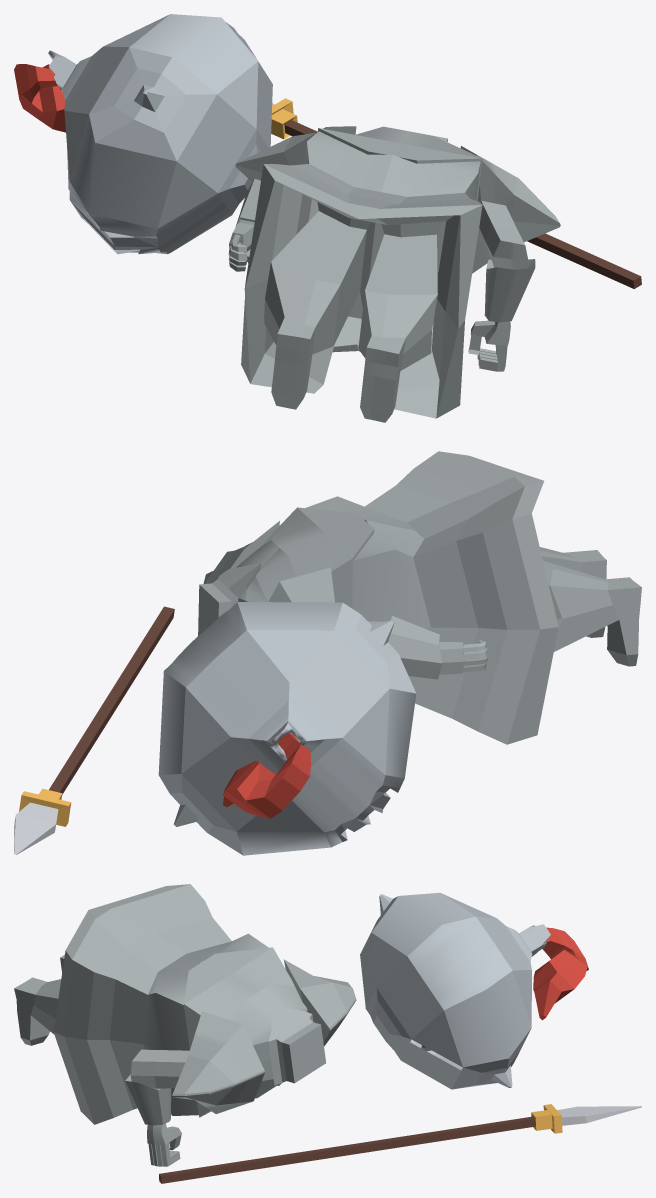
The model's file is enemyKnightDead.fbx.
3 renders of one model, top to bottom at view 1: azimuth 30°, elevation 25°; view 2: azimuth 150°, elevation 25°; view 3: azimuth 270°, elevation 25°, orthographic. The views are drawn at different scales.
Parts seen in each view (by area): view 1: pCube2, pCube1, pCube3, pasted__pCube3, pCube4, pCube5; view 2: pCube2, pCube1, pCube4, pasted__pCube3, pCube5, pCube3; view 3: pCube2, pCube1, pCube3, pCube4, pCube5, pasted__pCube3.
Part boxes in pixels (box(x1,y1,x2,y2)): pCube2: box(241, 126, 482, 422); pCube1: box(48, 14, 272, 254); pCube3: box(460, 146, 560, 371); pasted__pCube3: box(228, 126, 356, 271); pCube4: box(271, 98, 641, 288); pCube5: box(14, 64, 65, 132); pCube2: box(198, 451, 641, 744); pCube1: box(158, 602, 416, 855); pCube4: box(14, 606, 174, 854); pasted__pCube3: box(268, 567, 488, 679); pCube5: box(223, 733, 311, 818); pCube3: box(203, 521, 279, 583); pCube2: box(14, 884, 325, 1124); pCube1: box(360, 892, 550, 1089); pCube3: box(125, 1011, 264, 1166); pCube4: box(159, 1104, 641, 1183); pCube5: box(533, 927, 588, 1020); pasted__pCube3: box(284, 959, 356, 1046).
Size of the model in its own units: 21.1 by 11.93 by 33.95.
Materials: 4 (4 with a texture image).
